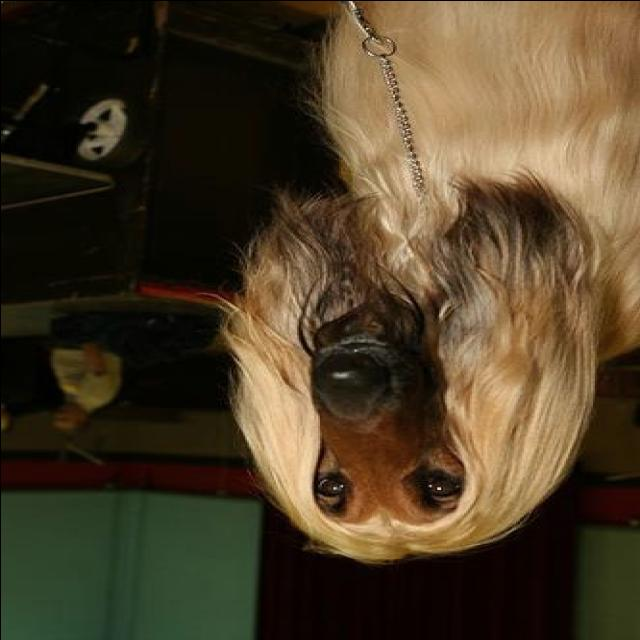afghan_hound: (192, 2, 636, 568)
